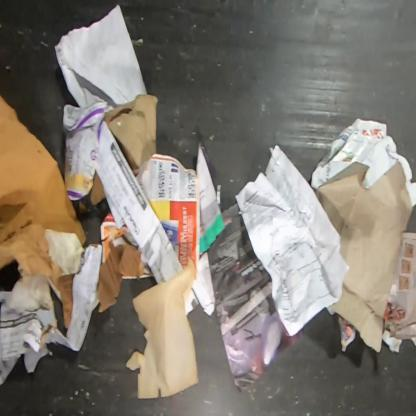cardboard: (0, 94, 87, 329), (315, 162, 414, 353), (41, 243, 102, 352), (104, 94, 159, 178), (97, 240, 145, 312), (90, 171, 106, 206)
rigid_plastic: (62, 101, 108, 202)
